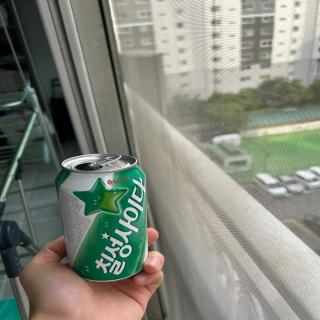cocacola: (49, 151, 150, 284)
